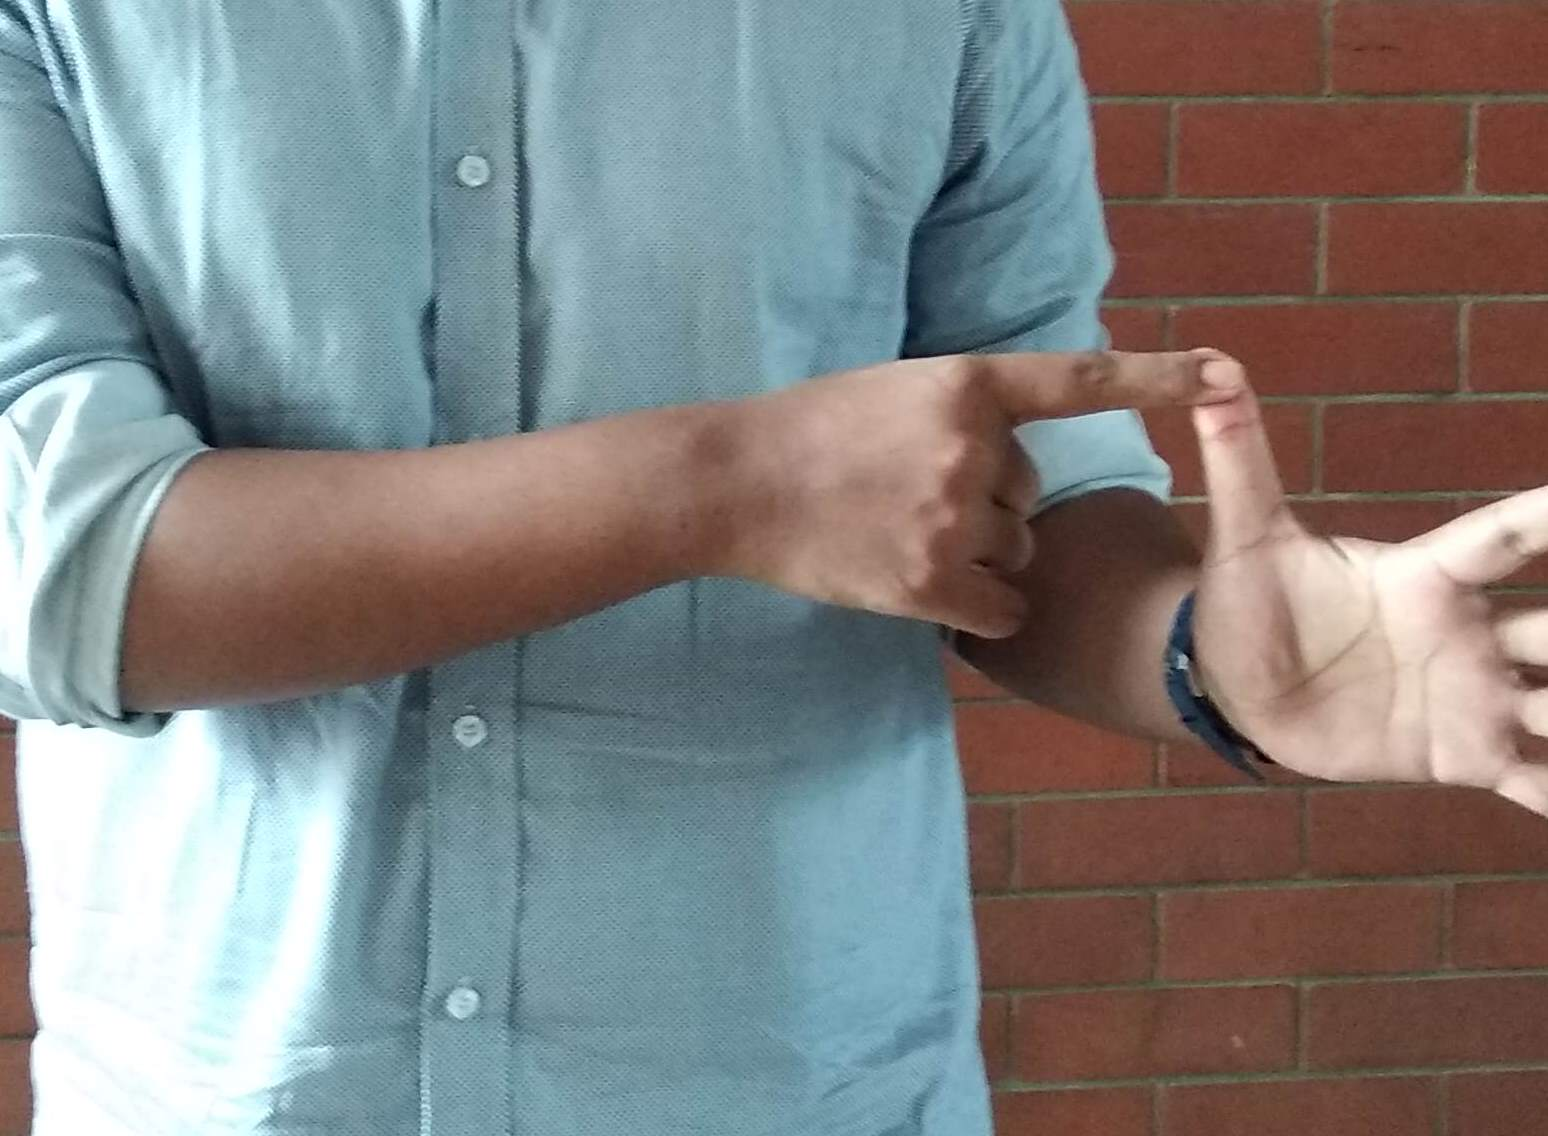a: (873, 325, 1548, 849)
